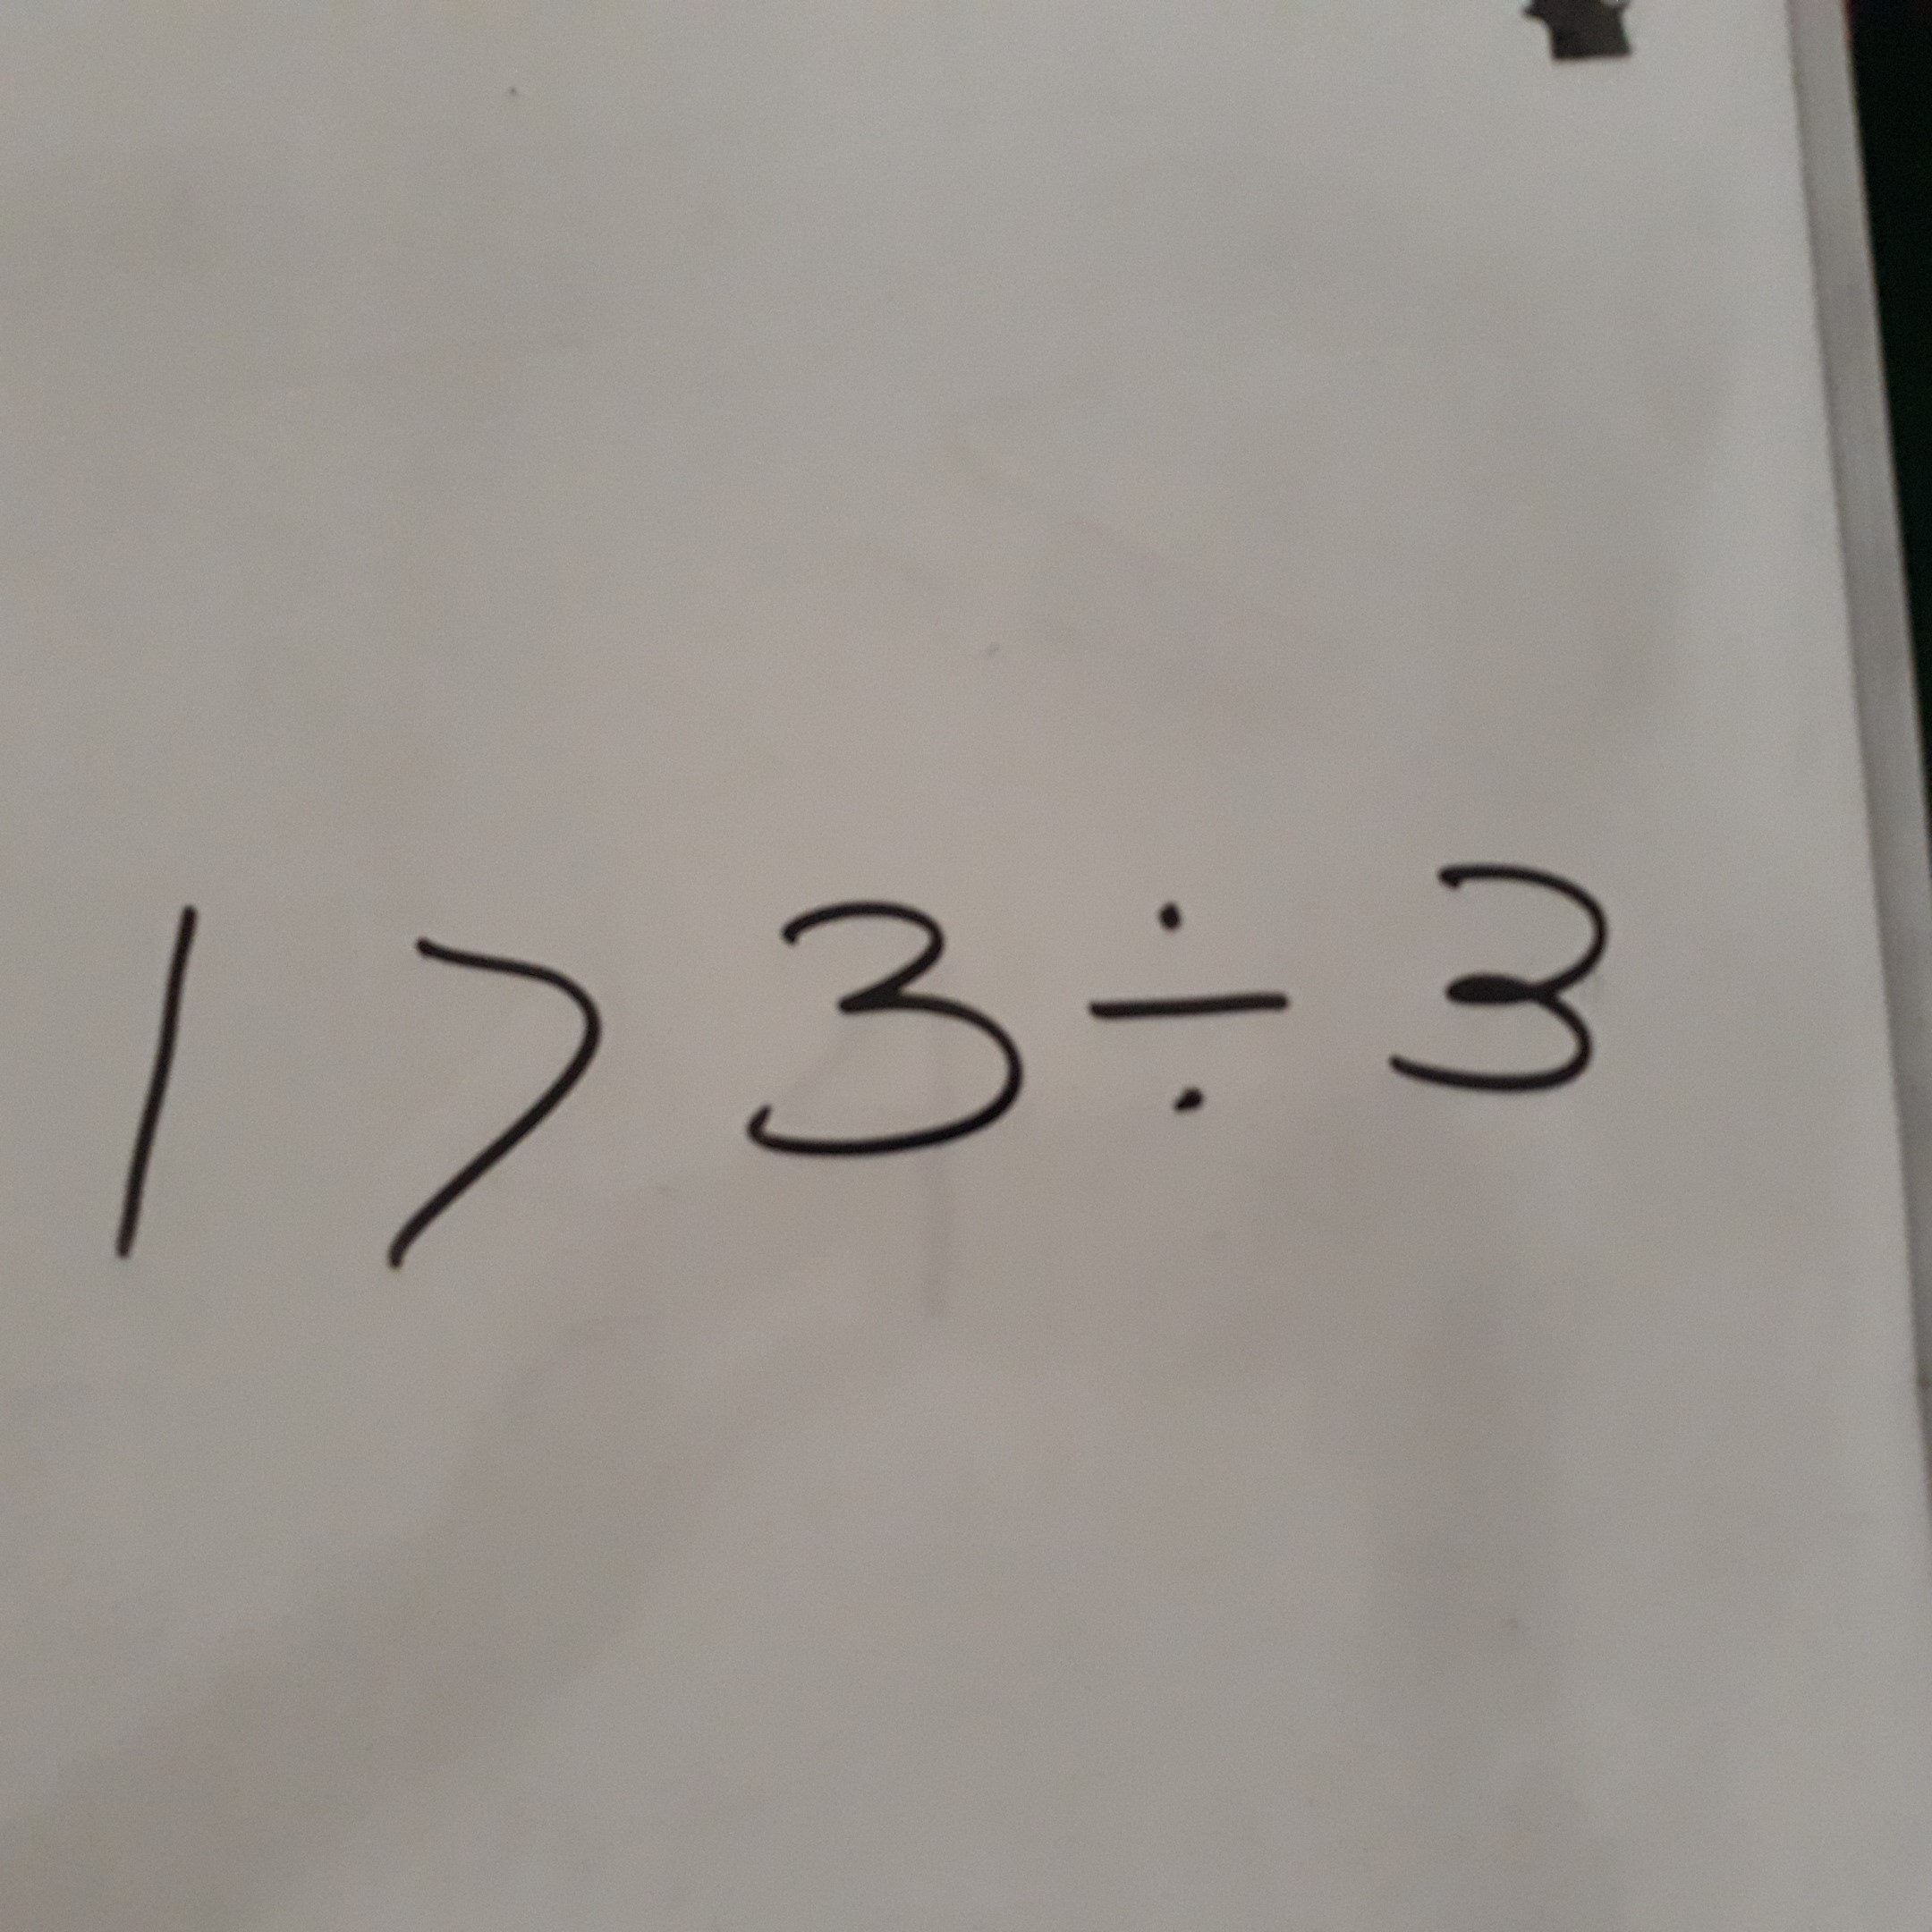div: (1065, 861, 1301, 1132)
morethan: (365, 897, 624, 1284)
num1: (110, 877, 228, 1268)
num3: (704, 867, 1037, 1169), (1360, 828, 1625, 1122)
